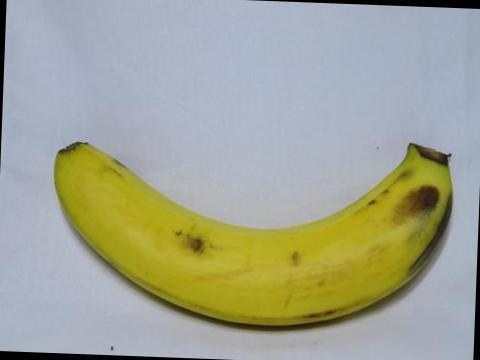freshripe: (39, 127, 468, 341)
